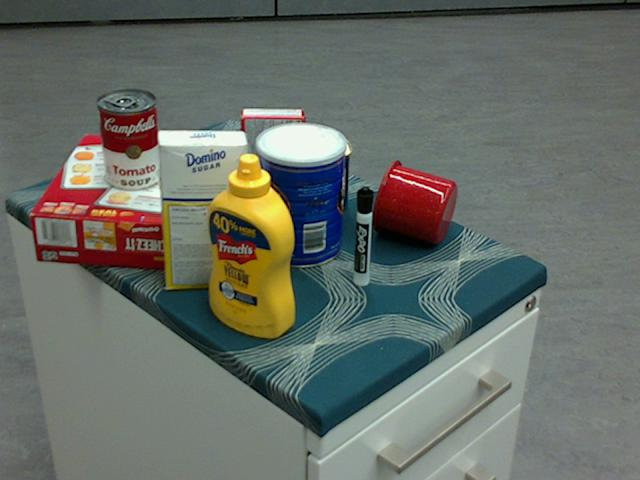cracker_box: (29, 134, 206, 271)
gelatin_box: (240, 109, 304, 163)
large_marker: (355, 186, 373, 286)
master_chef_can: (255, 122, 345, 267)
mug: (371, 159, 457, 243)
mustard_bottle: (208, 153, 294, 338)
potted_meat_can: (269, 134, 351, 214)
sugar_box: (157, 129, 247, 289)
tomato_soup_can: (96, 89, 161, 191)
tuna_fish_can: (190, 146, 237, 216)
